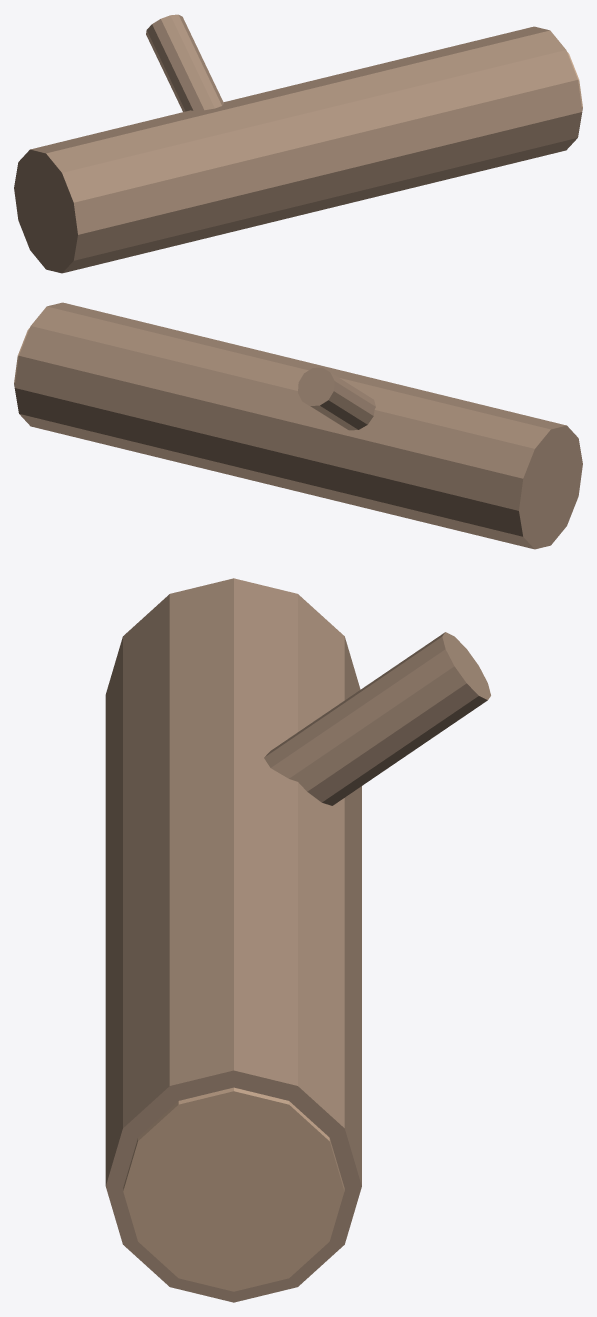
Rendered from log.glb.
The picture shows the model from 3 angles, top to bottom: view 1: azimuth 30°, elevation 25°; view 2: azimuth 150°, elevation 25°; view 3: azimuth 270°, elevation 25°; orthographic projection. The views are drawn at different scales.
Parts seen in each view (by area): view 1: log_000, log_002; view 2: log_000, log_002; view 3: log_000, log_001, log_002.
Part boxes in pixels (x1=…): log_000: x1=14, y1=26, x2=582, y2=273; log_002: x1=146, y1=14, x2=223, y2=111; log_000: x1=14, y1=302, x2=582, y2=549; log_002: x1=298, y1=367, x2=375, y2=430; log_000: x1=105, y1=578, x2=361, y2=1302; log_001: x1=123, y1=1087, x2=344, y2=1291; log_002: x1=264, y1=632, x2=490, y2=805.
Size of the model in its own units: 2.02 by 0.656 by 0.662.
